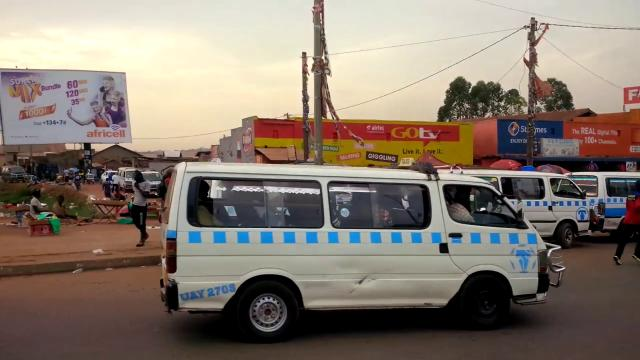van: (160, 161, 563, 340), (449, 168, 589, 248), (564, 170, 639, 236), (140, 170, 164, 197), (117, 167, 140, 192)
